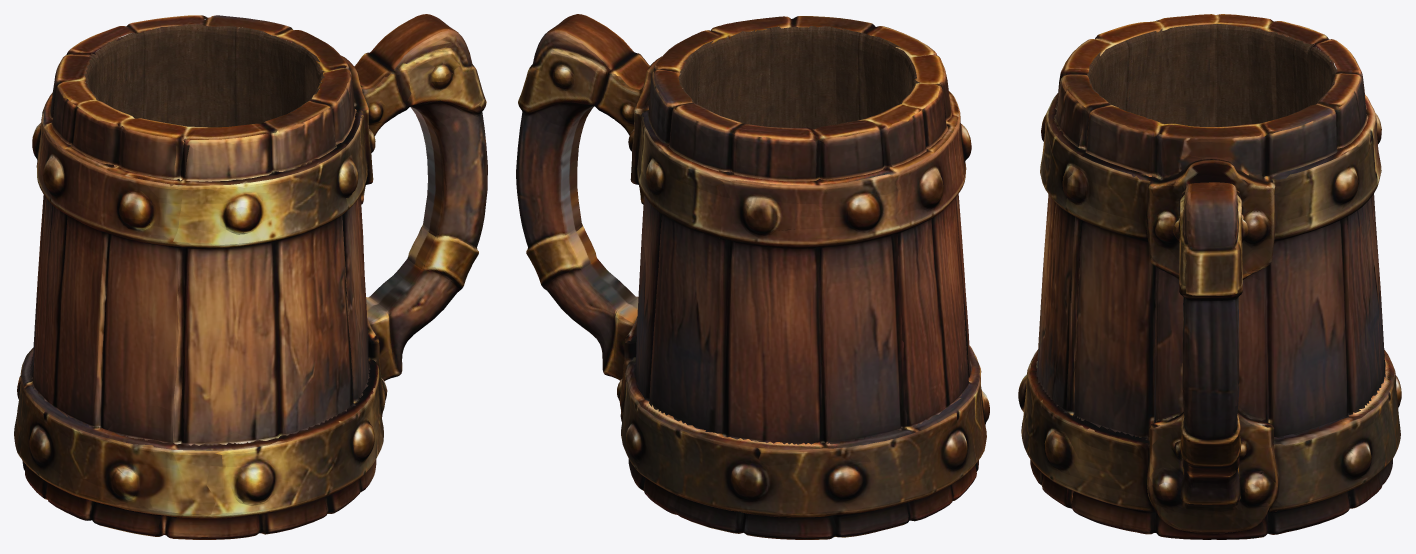
Rendered from tankard-trial.glb.
The picture shows the model from 3 angles, left to right: view 1: azimuth 30°, elevation 25°; view 2: azimuth 150°, elevation 25°; view 3: azimuth 270°, elevation 25°; orthographic projection.
Visible parts, largest first — view 1: geometry_0; view 2: geometry_0; view 3: geometry_0.
Boxes of the visible parts, bbox=[...] form: geometry_0: bbox=[14, 14, 487, 539]; geometry_0: bbox=[516, 14, 989, 539]; geometry_0: bbox=[1018, 14, 1401, 539].
Bounding box in the file's own units: 0.16 × 0.1358 × 0.1193.
2 materials, 2 textured.
